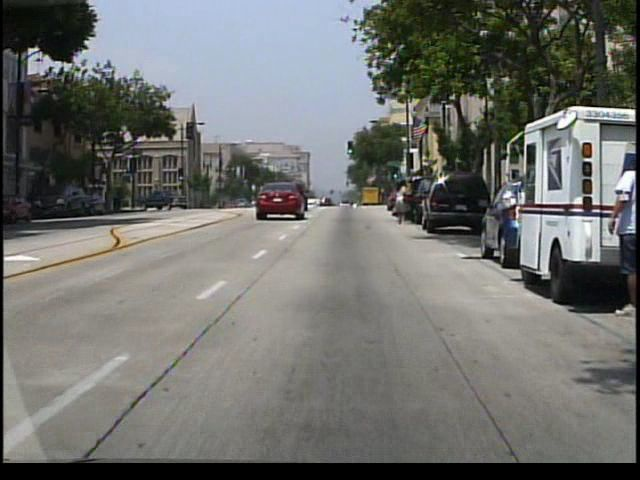person: (600, 156, 638, 316), (390, 178, 412, 225)
